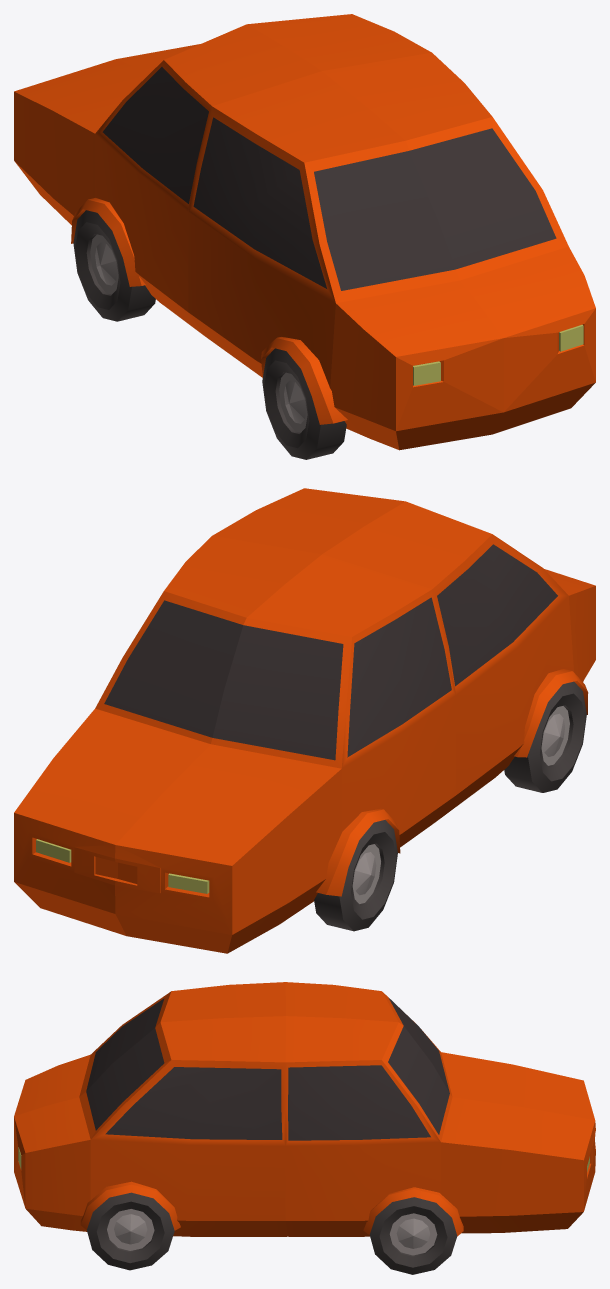
The model's file is car1.fbx.
The picture shows the model from 3 angles, top to bottom: view 1: azimuth 30°, elevation 25°; view 2: azimuth 150°, elevation 25°; view 3: azimuth 270°, elevation 25°; orthographic projection. The views are drawn at different scales.
Parts seen in each view (by area): view 1: body, wheel2, wheel; view 2: body, wheel, wheel2; view 3: body, wheel1, wheel3.
Boxes of the visible parts, <box> form: body: <box>14,14,595,450</box>; wheel2: <box>262,348,346,459</box>; wheel: <box>73,210,155,321</box>; body: <box>14,488,595,953</box>; wheel: <box>314,820,397,931</box>; wheel2: <box>504,681,586,792</box>; body: <box>14,982,595,1236</box>; wheel1: <box>87,1192,174,1270</box>; wheel3: <box>369,1197,457,1274</box>.
Bounding box in the file's own units: 1.36 × 1.32 × 3.32.
